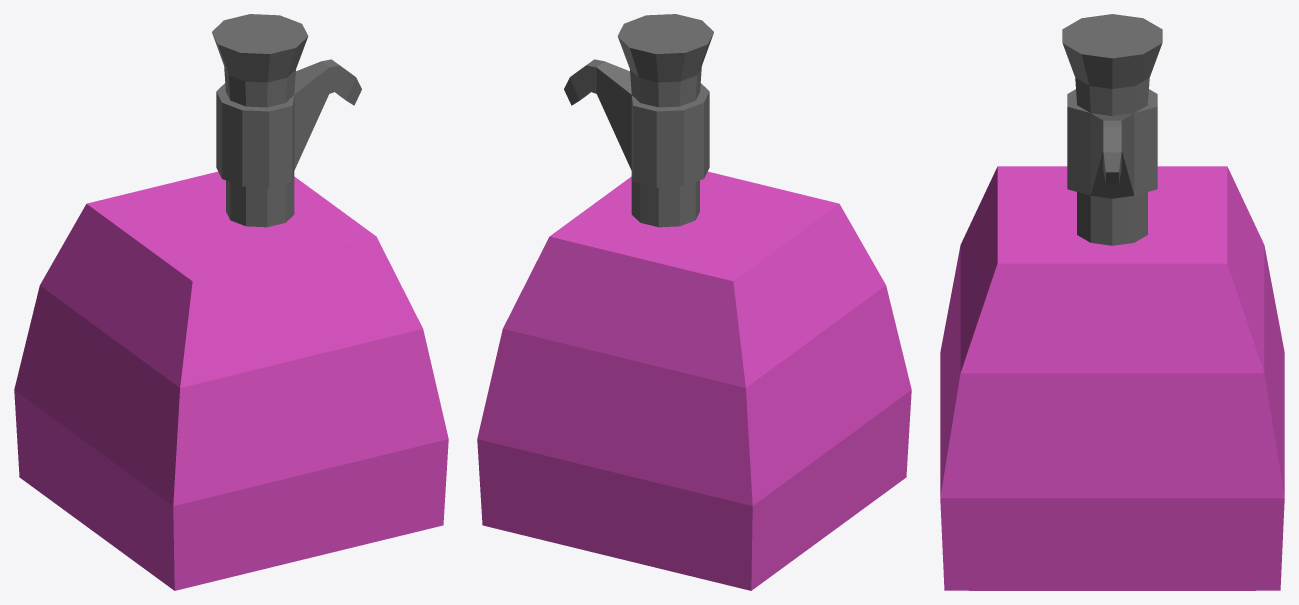
File: washing-up liquid.fbx
3 renders of one model, left to right at view 1: azimuth 30°, elevation 25°; view 2: azimuth 150°, elevation 25°; view 3: azimuth 270°, elevation 25°, orthographic. The views are drawn at different scales.
Parts seen in each view (by area): view 1: soap; view 2: soap; view 3: soap.
Part boxes in pixels (x1,y1,x2,y2): soap: [14, 14, 448, 590]; soap: [477, 14, 911, 590]; soap: [940, 14, 1284, 590].
Size of the model in its own units: 0.0822 by 0.1368 by 0.0822.
